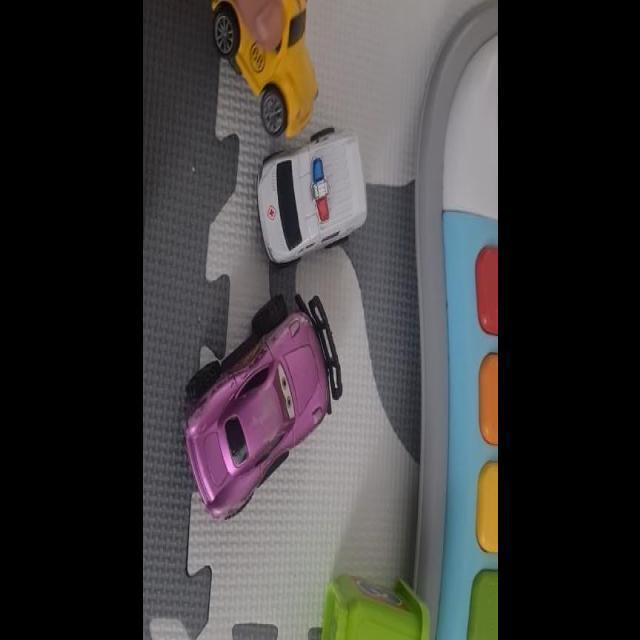hard-toy: (186, 296, 344, 520), (213, 1, 319, 138), (259, 130, 367, 264)
